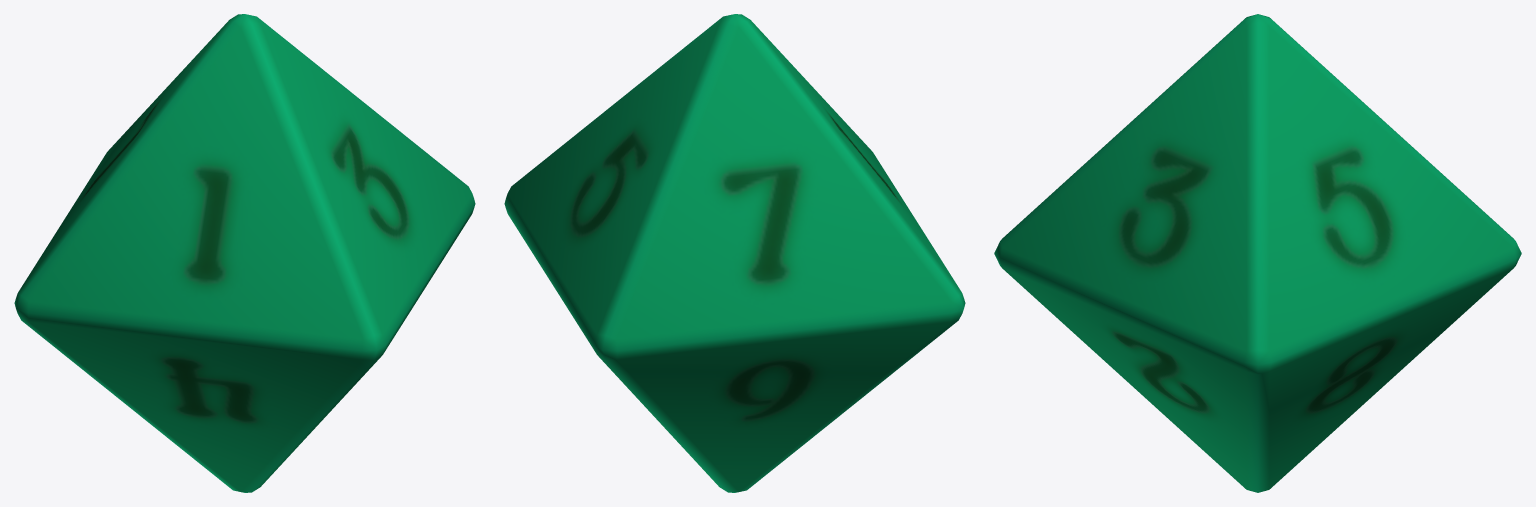
File: D8_green.obj
3 views of the same model, side by side, from view 1: azimuth 30°, elevation 25°; view 2: azimuth 150°, elevation 25°; view 3: azimuth 270°, elevation 25° (orthographic).
Parts seen in each view (by area): view 1: D8_green; view 2: D8_green; view 3: D8_green.
Boxes of the visible parts, x1=… form: D8_green: x1=14, y1=14, x2=475, y2=492; D8_green: x1=504, y1=14, x2=965, y2=492; D8_green: x1=994, y1=14, x2=1521, y2=492.
Size of the model in its own units: 1 by 1 by 1.
1 material, 1 textured.
